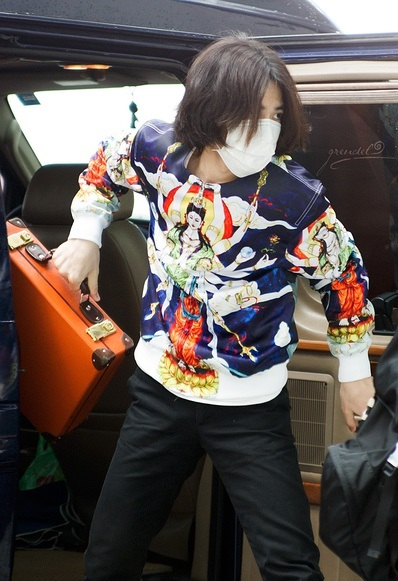face_mask: (231, 79, 282, 175)
